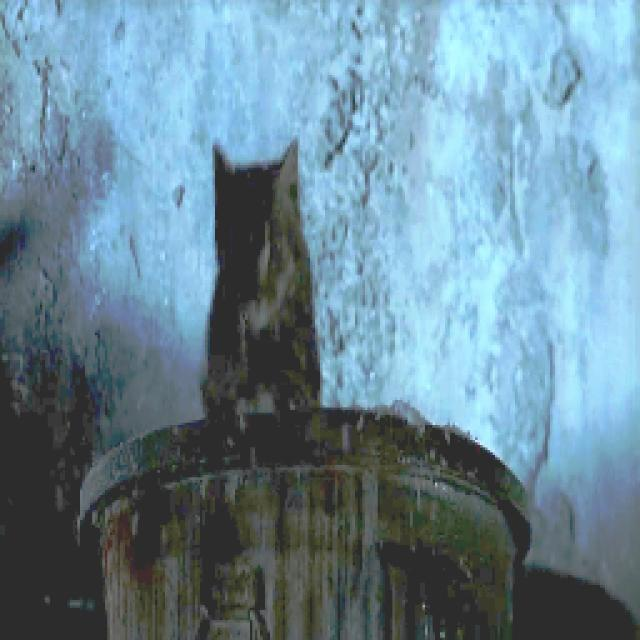cat: (151, 128, 371, 452)
